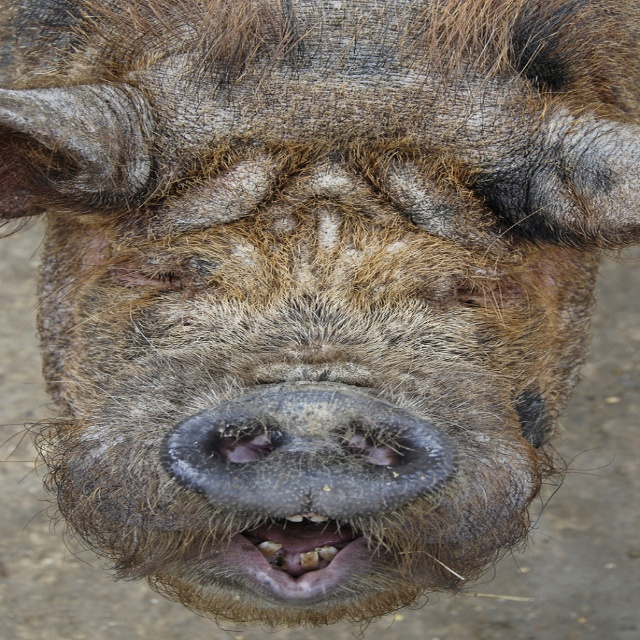Pig: (1, 0, 640, 639)
